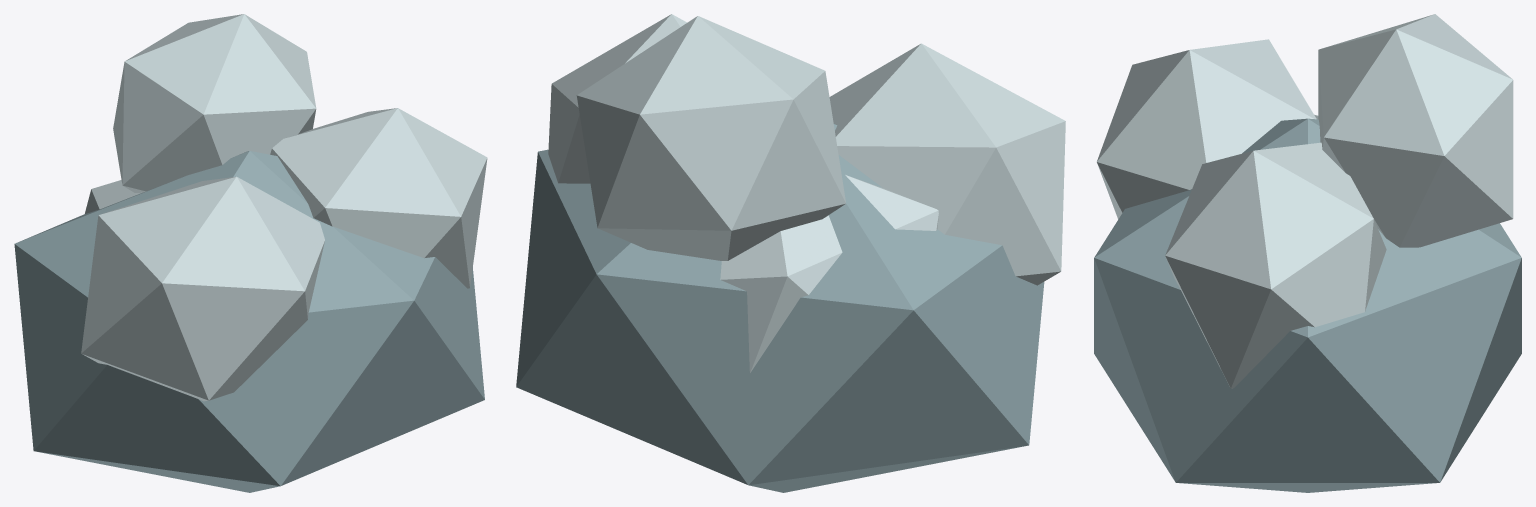
The model's file is resource_titanium.glb.
3 renders of one model, left to right at view 1: azimuth 30°, elevation 25°; view 2: azimuth 150°, elevation 25°; view 3: azimuth 270°, elevation 25°, orthographic. The views are drawn at different scales.
Parts seen in each view (by area): view 1: resource_titanium; view 2: resource_titanium; view 3: resource_titanium.
Part boxes in pixels (x1,y1,x2,y2): resource_titanium: (14,14,487,492); resource_titanium: (516,14,1065,492); resource_titanium: (1094,14,1521,492).
Bounding box in the file's own units: 0.6149 × 0.5926 × 0.4764.
